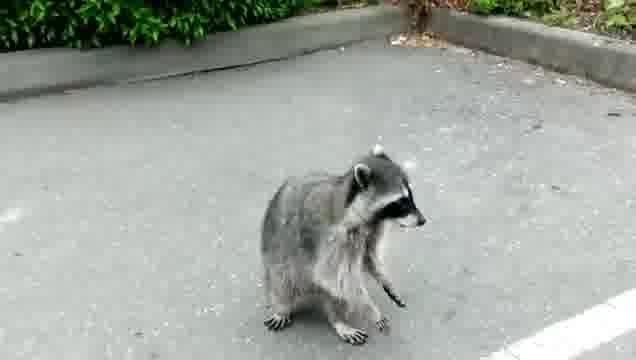raccoon: (259, 146, 428, 345)
